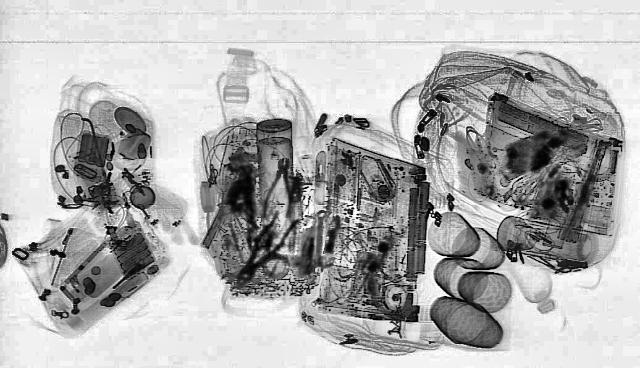Pliers: (223, 212, 301, 290), (264, 157, 296, 219)
